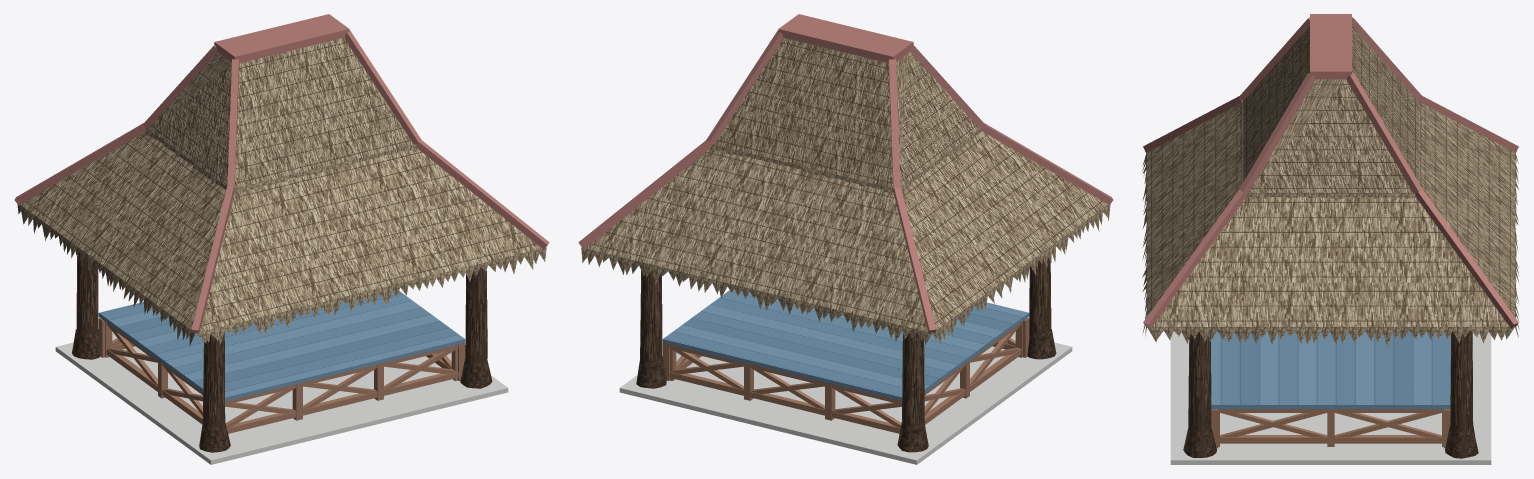
File: joglo_belakang.glb
3 renders of one model, left to right at view 1: azimuth 30°, elevation 25°; view 2: azimuth 150°, elevation 25°; view 3: azimuth 270°, elevation 25°, orthographic. The views are drawn at different scales.
Visible parts, largest first — view 1: Atap_Rumbia_Joglo_2_Tingkat, Papan_Duduk_Biru_Joglo, Lantai_Beton_Joglo, Lis_Bubungan_Marun_Joglo, Rangka_Kayu_Silang_X, Tiang_Batang_Pohon_Joglo; view 2: Atap_Rumbia_Joglo_2_Tingkat, Papan_Duduk_Biru_Joglo, Lantai_Beton_Joglo, Lis_Bubungan_Marun_Joglo, Rangka_Kayu_Silang_X, Tiang_Batang_Pohon_Joglo; view 3: Atap_Rumbia_Joglo_2_Tingkat, Papan_Duduk_Biru_Joglo, Lantai_Beton_Joglo, Lis_Bubungan_Marun_Joglo, Tiang_Batang_Pohon_Joglo, Rangka_Kayu_Silang_X.
Boxes of the visible parts, <box> form: Atap_Rumbia_Joglo_2_Tingkat: <box>17,38,546,345</box>; Papan_Duduk_Biru_Joglo: <box>98,290,465,401</box>; Lantai_Beton_Joglo: <box>55,333,508,464</box>; Lis_Bubungan_Marun_Joglo: <box>14,14,549,333</box>; Rangka_Kayu_Silang_X: <box>98,318,465,433</box>; Tiang_Batang_Pohon_Joglo: <box>72,252,492,452</box>; Atap_Rumbia_Joglo_2_Tingkat: <box>581,38,1110,345</box>; Papan_Duduk_Biru_Joglo: <box>662,289,1029,401</box>; Lantai_Beton_Joglo: <box>619,333,1072,464</box>; Lis_Bubungan_Marun_Joglo: <box>578,14,1113,333</box>; Rangka_Kayu_Silang_X: <box>662,318,1029,433</box>; Tiang_Batang_Pohon_Joglo: <box>636,256,1056,452</box>; Atap_Rumbia_Joglo_2_Tingkat: <box>1142,26,1519,346</box>; Papan_Duduk_Biru_Joglo: <box>1211,330,1450,409</box>; Lantai_Beton_Joglo: <box>1170,331,1491,464</box>; Lis_Bubungan_Marun_Joglo: <box>1143,14,1518,328</box>; Tiang_Batang_Pohon_Joglo: <box>1183,330,1478,458</box>; Rangka_Kayu_Silang_X: <box>1211,409,1450,448</box>.
Size of the model in its own units: 5.08 by 4.54 by 4.48.
Materials: 6 (3 with a texture image).
